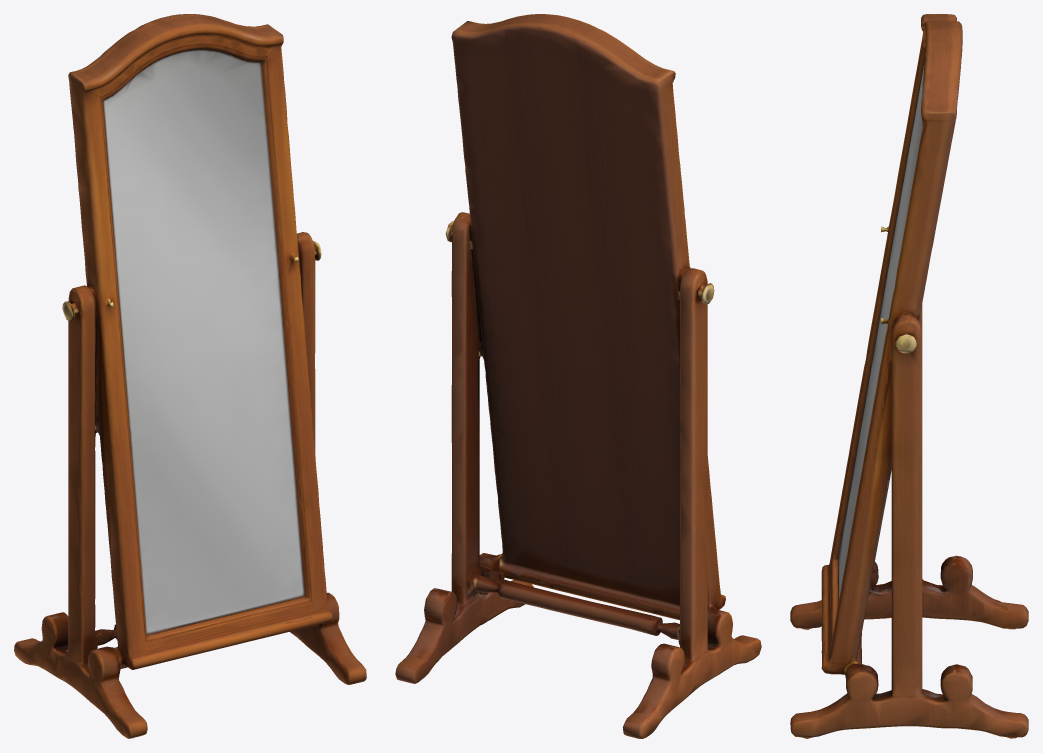
The model's file is Meshy_AI_ayna_0107235144_texture.fbx.
3 renders of one model, left to right at view 1: azimuth 30°, elevation 25°; view 2: azimuth 150°, elevation 25°; view 3: azimuth 270°, elevation 25°, orthographic. The views are drawn at different scales.
Parts seen in each view (by area): view 1: Mesh_0; view 2: Mesh_0; view 3: Mesh_0.
Part boxes in pixels (bbox=[...]): Mesh_0: bbox=[14, 14, 366, 738]; Mesh_0: bbox=[395, 14, 761, 738]; Mesh_0: bbox=[790, 14, 1028, 738].
Size of the model in its own units: 78.48 by 191 by 63.74.
Materials: 1 (1 with a texture image).
